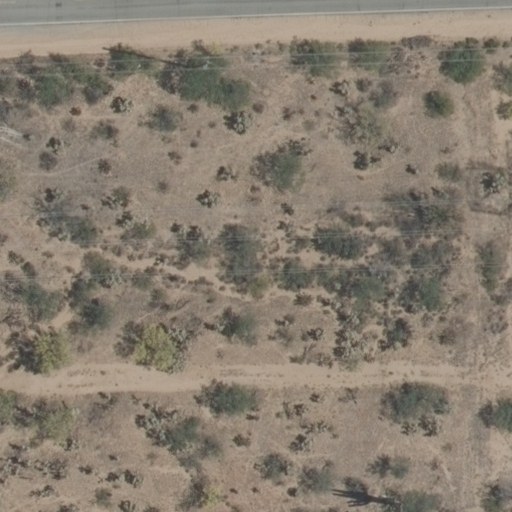DT: (185, 51, 214, 76)
